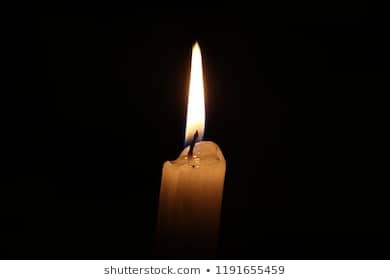Fire: (185, 37, 208, 154)
